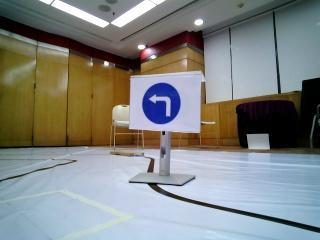left: (129, 75, 199, 131)
